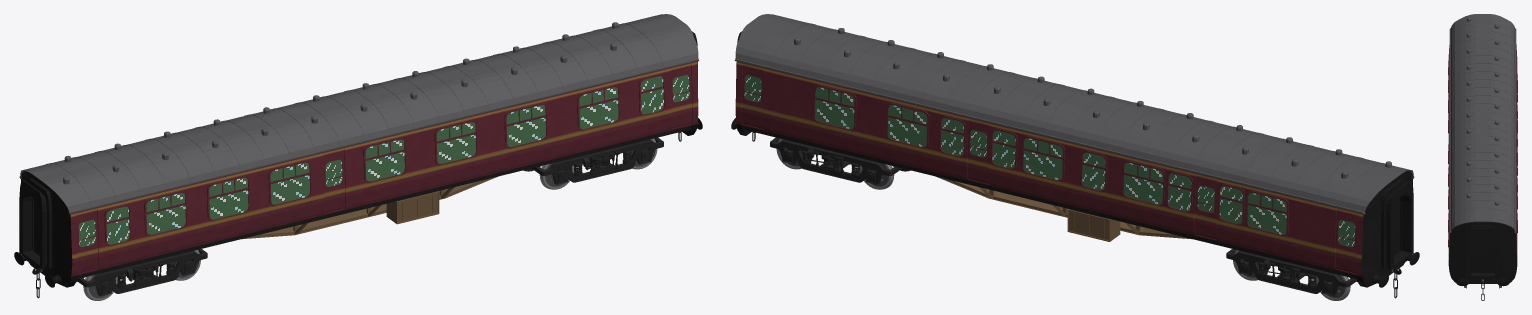
Rendered from br_coach_mk1.obj.
3 renders of one model, left to right at view 1: azimuth 30°, elevation 25°; view 2: azimuth 150°, elevation 25°; view 3: azimuth 270°, elevation 25°, orthographic. The views are drawn at different scales.
Visible parts, largest first — view 1: SHELL, Cube.000, FRAME, Cube.055, BOGEY_FRONT, BOGEY_REAR; view 2: SHELL, Cube.000, Cube.055, FRAME, BOGEY_REAR, BOGEY_FRONT; view 3: SHELL, CONNECTING_DOOR_1_TL_-1_Z, FRAME.
Part boxes in pixels (x1,y1,x2,y2): SHELL: (19,14,699,287); Cube.000: (78,75,689,246); FRAME: (14,118,702,298); Cube.055: (76,64,692,273); BOGEY_FRONT: (77,249,207,296); BOGEY_REAR: (532,137,663,184); SHELL: (734,14,1414,287); Cube.000: (744,75,1355,246); Cube.055: (741,64,1357,273); FRAME: (731,118,1419,298); BOGEY_REAR: (770,137,901,184); BOGEY_FRONT: (1226,249,1356,296); SHELL: (1448,14,1517,283); CONNECTING_DOOR_1_TL_-1_Z: (1471,234,1494,272); FRAME: (1456,278,1509,300).
Size of the model in its own units: 21.58 by 4.08 by 3.01.
3 materials, 3 textured.
